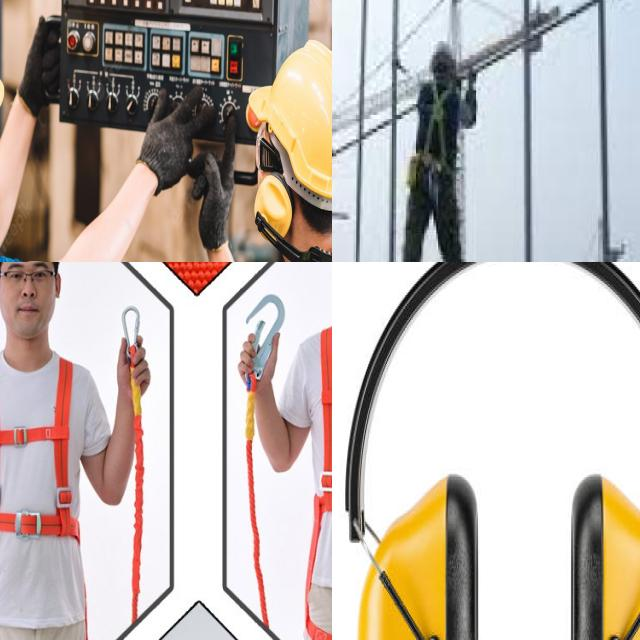Ear-protection: (346, 262, 640, 640), (237, 34, 332, 262)
Harness: (0, 352, 82, 640), (404, 74, 463, 204)
